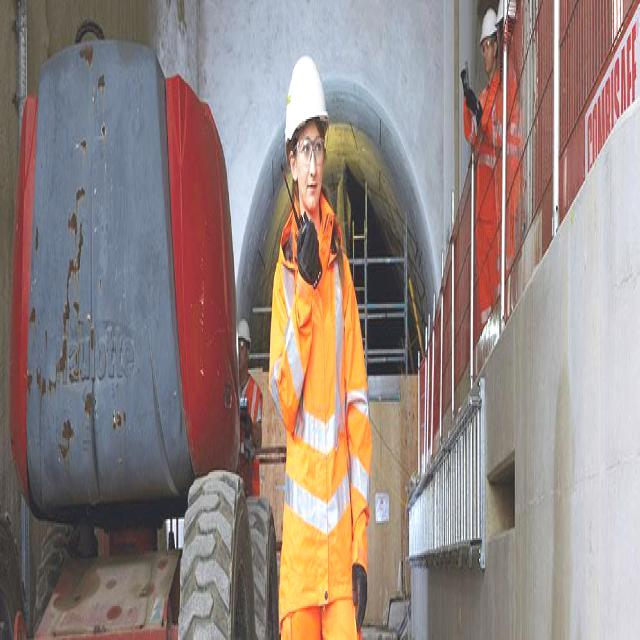face_nomask: (292, 117, 328, 211)
glasses: (292, 128, 326, 174)
hand_glove: (290, 213, 322, 294), (349, 549, 373, 640)
head_helmet: (285, 55, 328, 142), (479, 10, 498, 48), (238, 321, 250, 345)
person: (274, 68, 369, 640), (464, 7, 499, 321), (498, 6, 521, 304), (237, 323, 264, 502)
vest: (272, 210, 372, 572)
